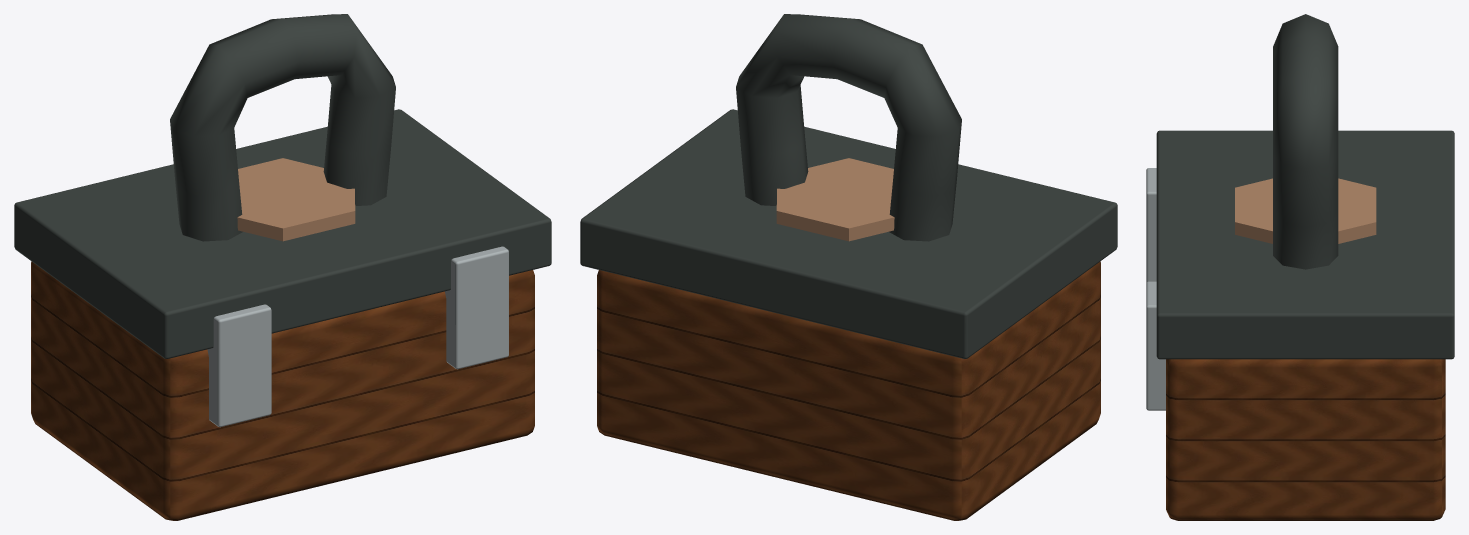
Rendered from scavengers-loot-library-carved-box-53832795__2656.glb.
3 renders of one model, left to right at view 1: azimuth 30°, elevation 25°; view 2: azimuth 150°, elevation 25°; view 3: azimuth 270°, elevation 25°, orthographic. The views are drawn at different scales.
Visible parts, largest first — view 1: carved-box, lid/dark; view 2: carved-box, lid/dark; view 3: carved-box, lid/dark.
Boxes of the visible parts, left/top/right/bottom form: carved-box: left=31, top=14, right=534, bottom=520; lid/dark: left=14, top=109, right=551, bottom=358; carved-box: left=597, top=14, right=1100, bottom=520; lid/dark: left=580, top=109, right=1117, bottom=358; carved-box: left=1146, top=14, right=1445, bottom=520; lid/dark: left=1156, top=130, right=1454, bottom=359.
Bounding box in the file's own units: 0.188 × 0.1907 × 0.1325.
4 materials, 1 textured.
